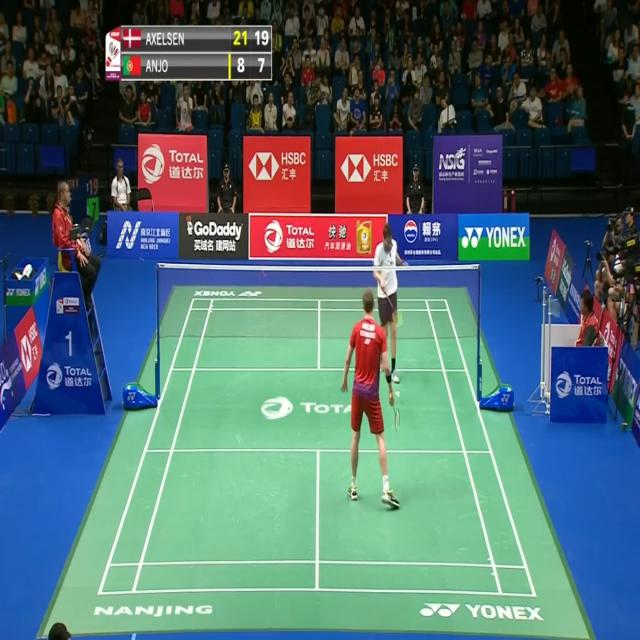Player1: (341, 290, 403, 510)
Player2: (373, 224, 409, 384)
